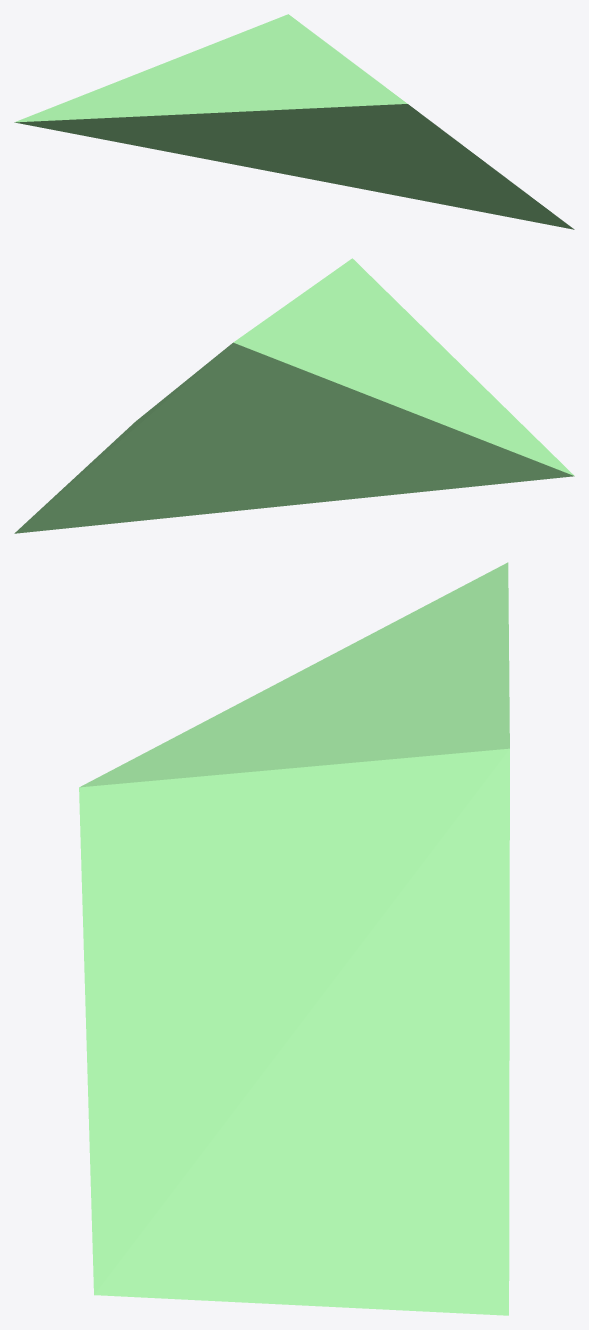
The model's file is linkhou_LR4_R560_link6_respondable_coll_17.dae.
3 views of the same model, one above another, from view 1: azimuth 30°, elevation 25°; view 2: azimuth 150°, elevation 25°; view 3: azimuth 270°, elevation 25° (orthographic). The views are drawn at different scales.
Parts seen in each view (by area): view 1: Node_00000209DB3AB0A0; view 2: Node_00000209DB3AB0A0; view 3: Node_00000209DB3AB0A0.
Boxes of the visible parts, <box> form: Node_00000209DB3AB0A0: <box>14,14,574,229</box>; Node_00000209DB3AB0A0: <box>14,258,574,533</box>; Node_00000209DB3AB0A0: <box>79,562,509,1315</box>.
Size of the model in its own units: 0.0411 by 0.017 by 0.0168.
